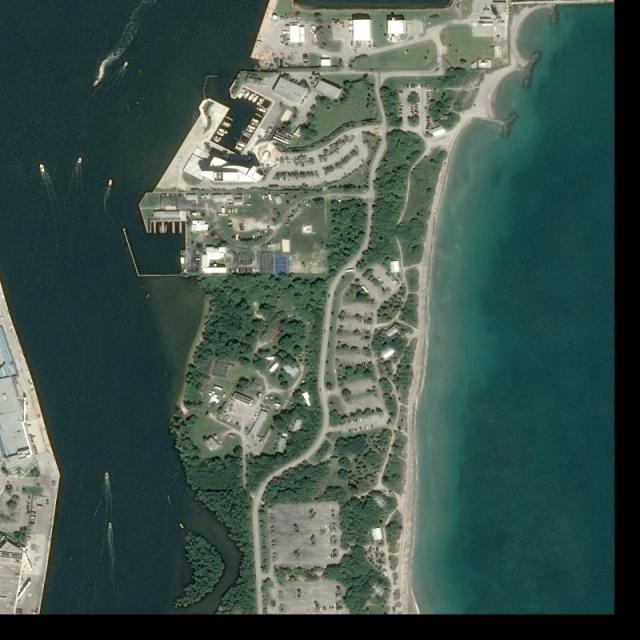ship: (91, 77, 102, 89), (180, 255, 186, 270), (39, 163, 46, 174), (122, 60, 130, 69), (178, 522, 186, 530), (104, 471, 110, 479), (108, 179, 114, 186), (108, 522, 113, 529), (78, 157, 83, 164)
